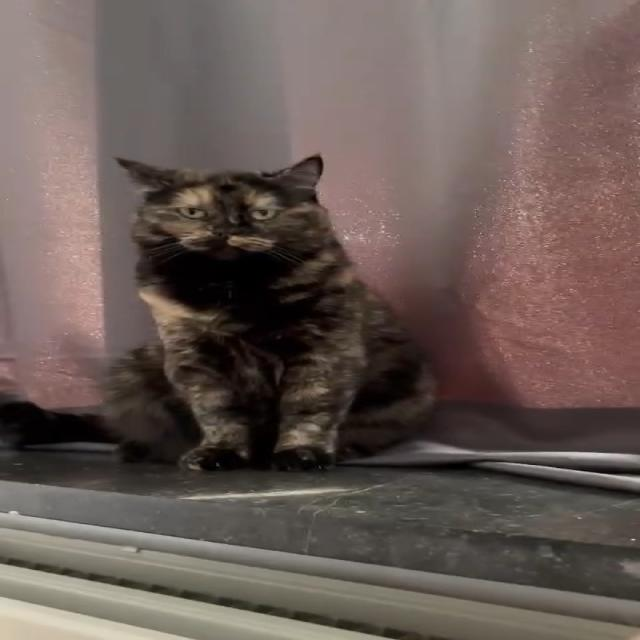authorized: (100, 152, 440, 472)
